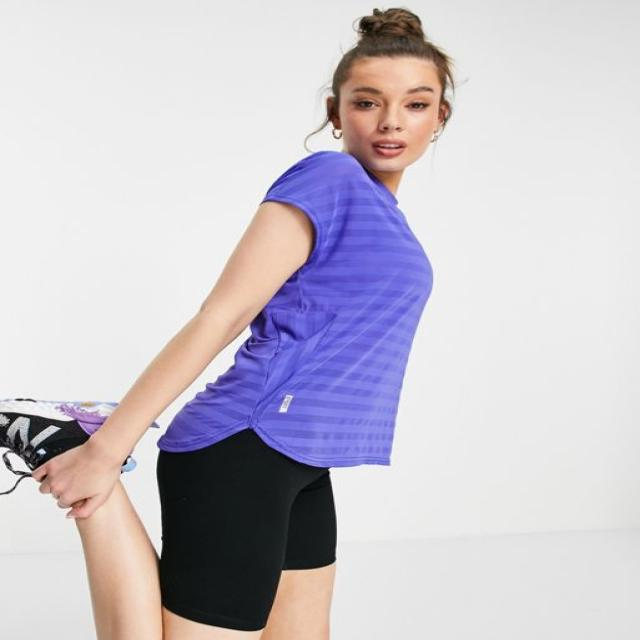tshirt: (153, 147, 438, 471)
